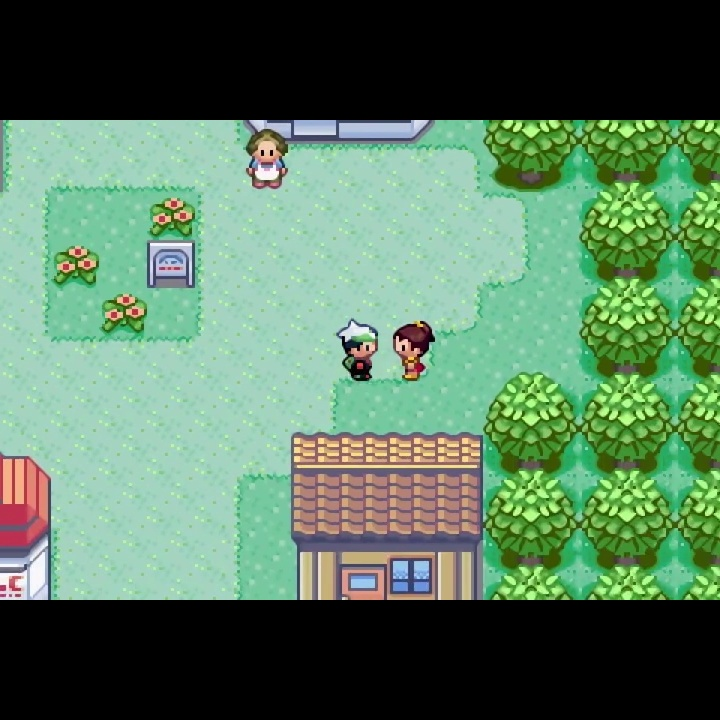house: (287, 429, 485, 600)
npc: (241, 126, 291, 194), (386, 317, 437, 383), (336, 313, 381, 383)
pokecen: (1, 449, 53, 600)
wall: (485, 371, 580, 473), (580, 372, 676, 471), (579, 275, 676, 372), (579, 469, 675, 565), (579, 180, 675, 276), (485, 471, 580, 565), (480, 120, 579, 193), (579, 121, 677, 192), (676, 275, 720, 375), (676, 469, 720, 568), (676, 371, 720, 468), (676, 180, 720, 277), (483, 563, 582, 600), (581, 563, 674, 600), (675, 119, 720, 190), (676, 563, 720, 600)
